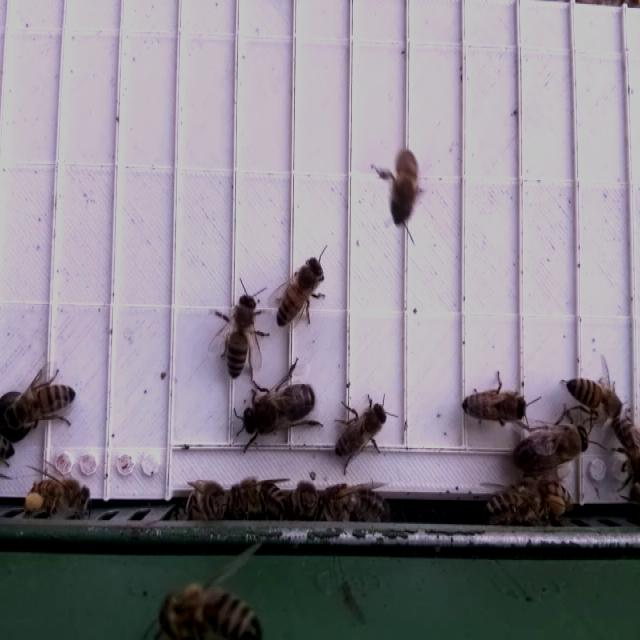Drone: (239, 379, 318, 442), (511, 420, 591, 480)
Worker: (4, 373, 81, 440), (165, 592, 263, 640), (273, 254, 327, 333), (331, 400, 390, 464), (562, 370, 624, 425), (224, 289, 260, 380), (483, 484, 549, 529), (460, 385, 529, 427)
